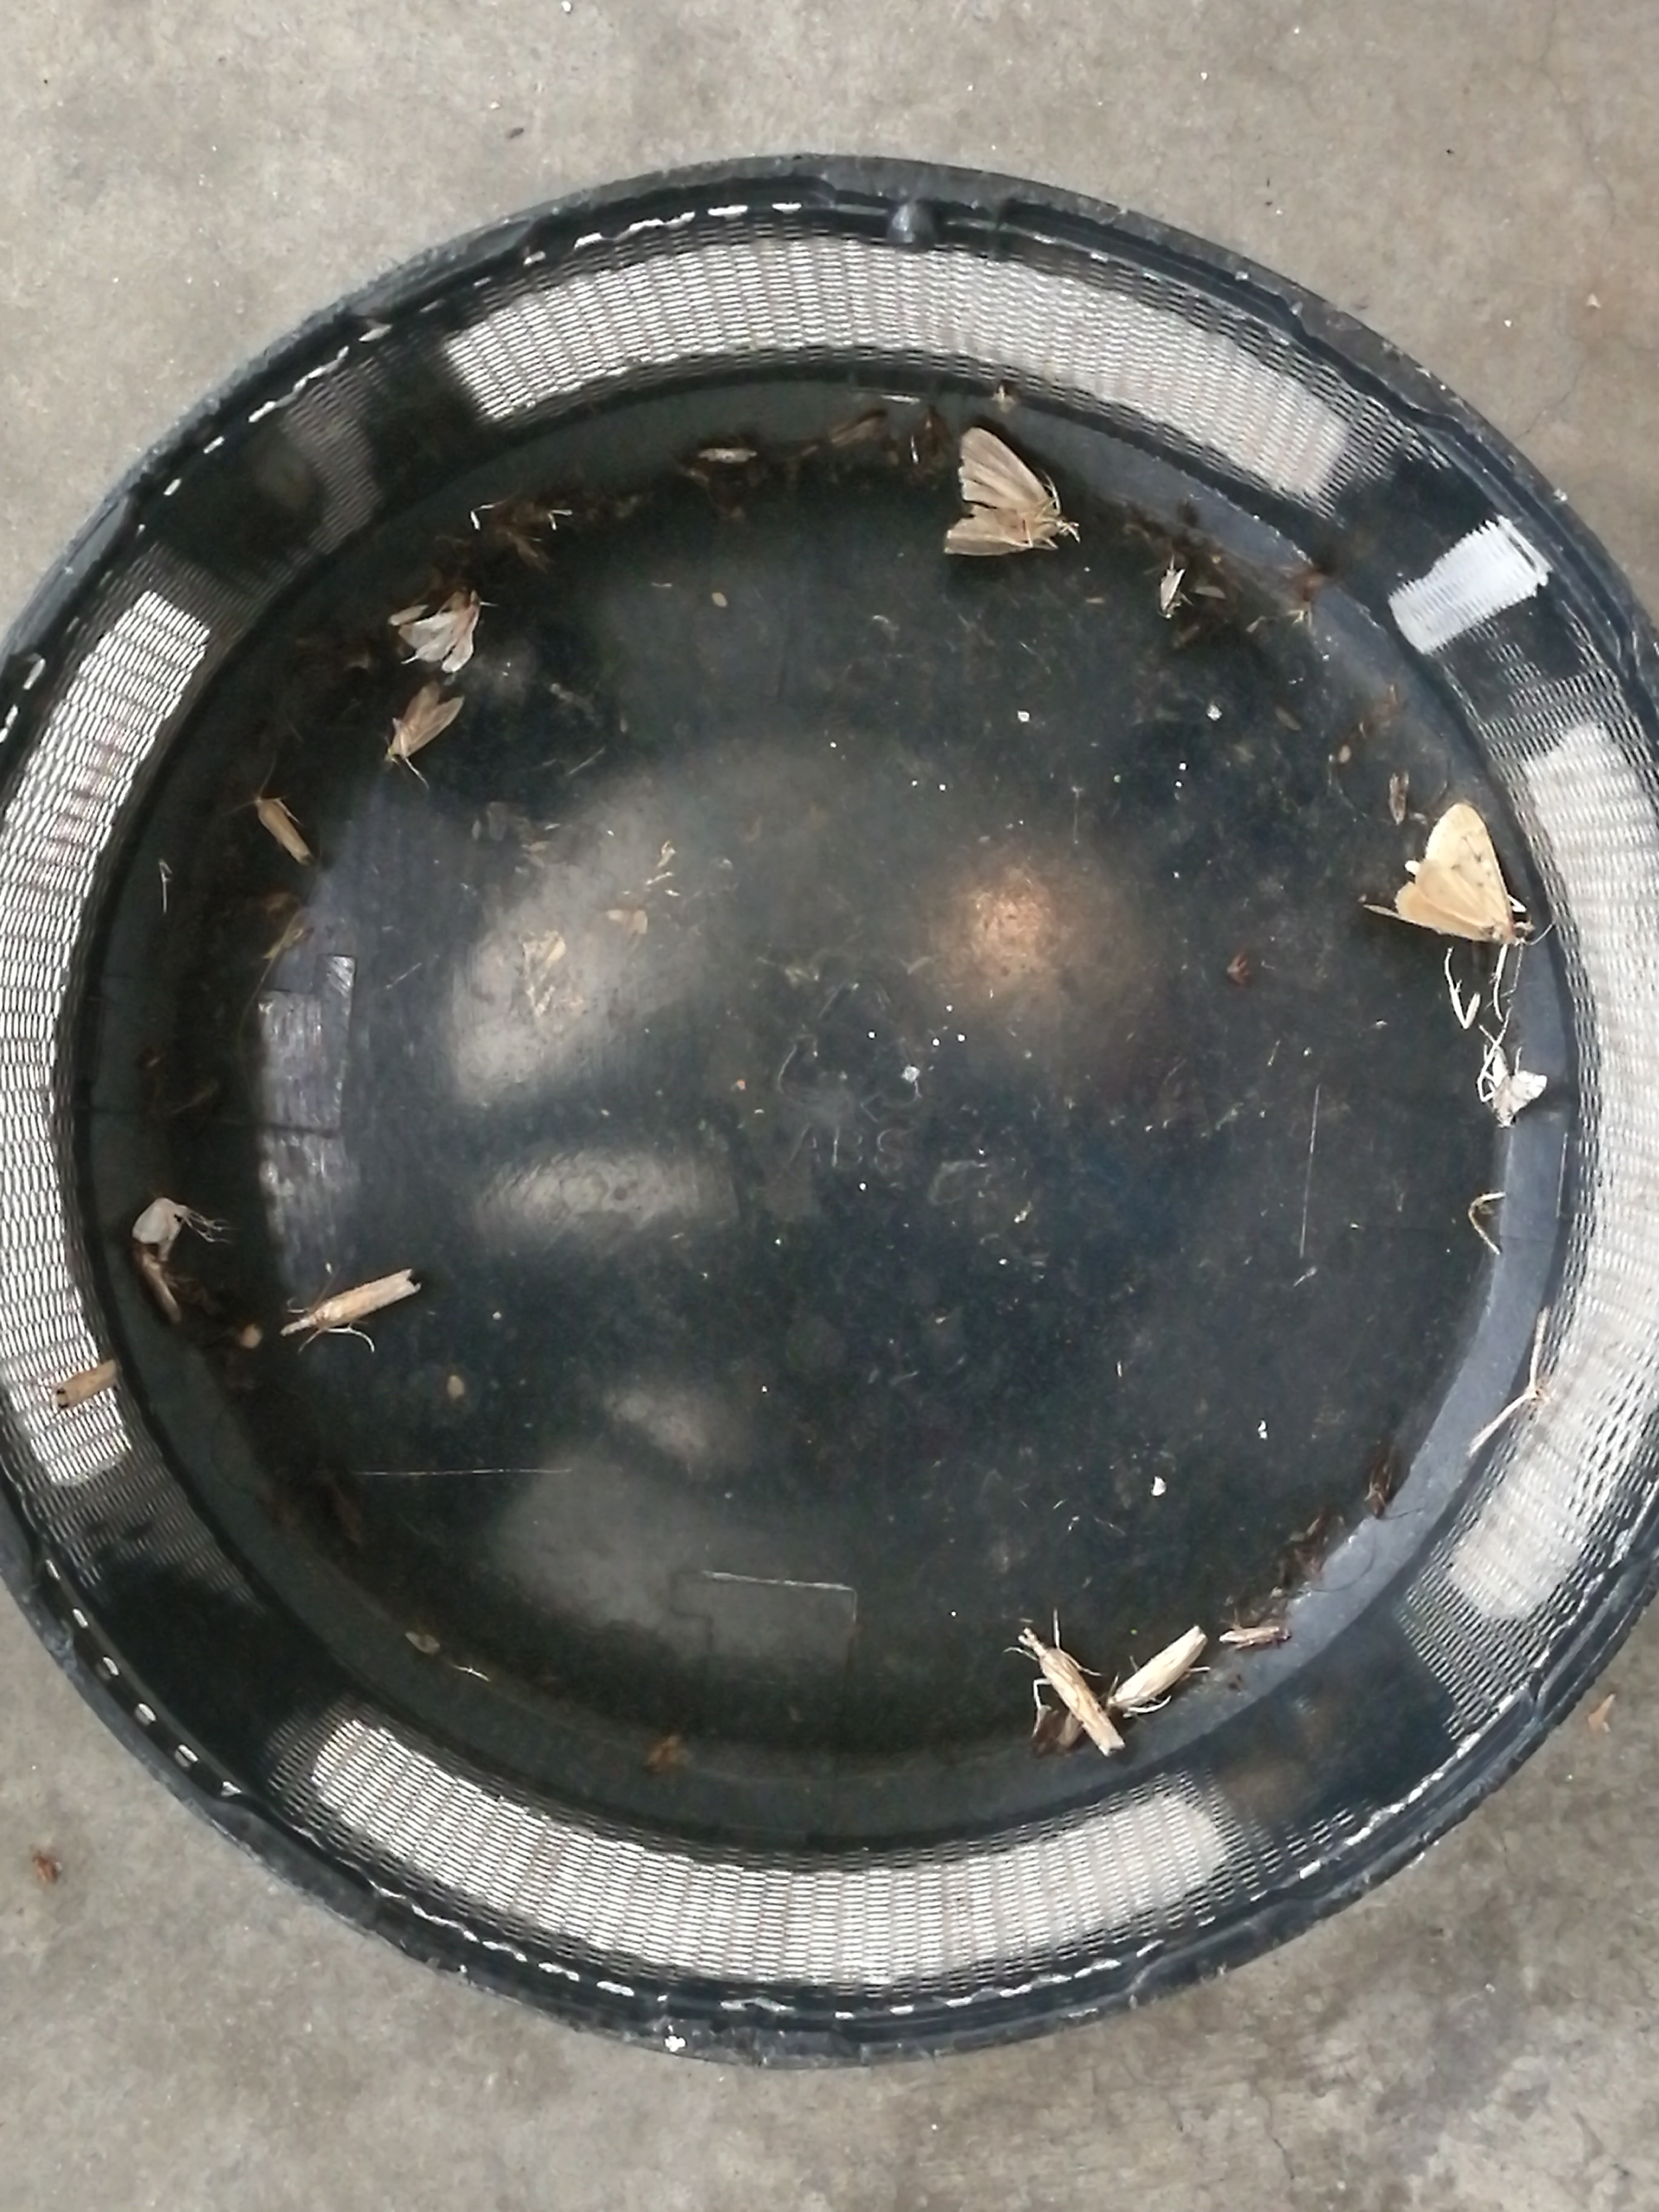mosquito: (1103, 1625, 1209, 1716), (1039, 1648, 1122, 1757), (312, 1268, 420, 1327), (256, 801, 310, 866), (134, 1245, 179, 1322), (56, 1359, 115, 1409), (1368, 1456, 1394, 1517), (831, 411, 885, 439), (1157, 566, 1185, 620), (1220, 1629, 1293, 1644)
moth: (1396, 805, 1514, 946), (946, 428, 1068, 556), (397, 592, 479, 671), (385, 683, 464, 763), (1493, 1052, 1546, 1127), (134, 1198, 179, 1244)
